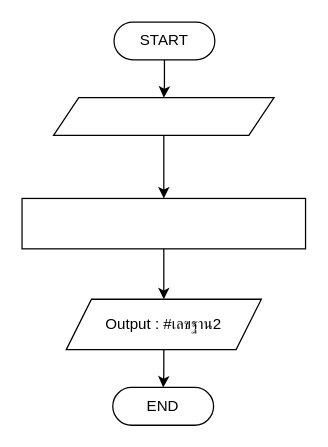
Some shapes in this 328 by 447 pixel diagram are drawn without their labels. The shapes that lost their labels are listed below. From the top down, each one's centre as x and y in pixels, then its label:
(163,115): "User Input : " #รับค่าจากผู้ใช้
(163,223): แปลงค่าที่รับมาจากเลขฐาน16 เป็นเลขฐาน2
